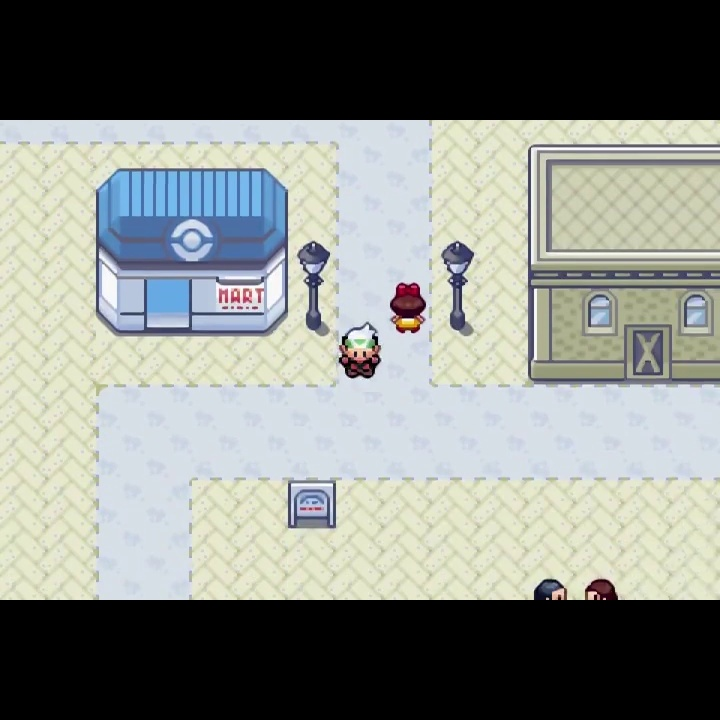agent: (336, 316, 382, 383)
house: (525, 141, 720, 385)
npc: (385, 281, 427, 339)
pokemart: (91, 166, 290, 336)
